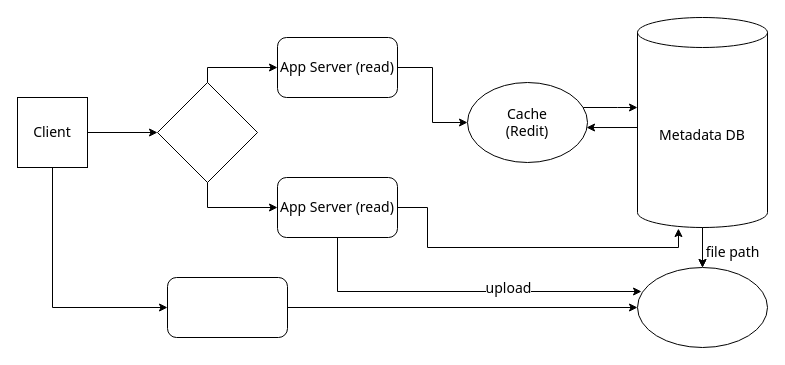
This 785x365 diagram has some shape labels left out. The centre of each missing label's shape, as x and y in pixels:
Cdn: the point at 227,307
Load Balancer: the point at 207,132
Object Storage (S3): the point at 702,307
